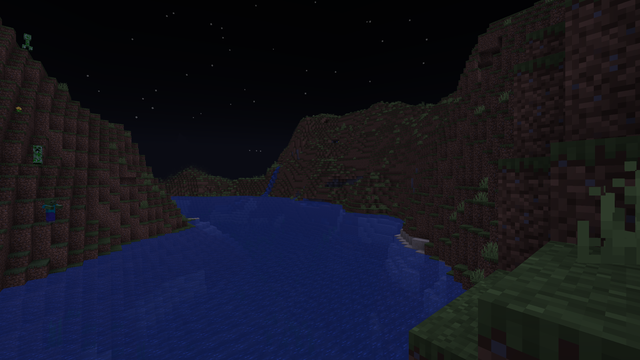creepers: (32, 144, 43, 164), (22, 32, 31, 51)
zombies: (44, 199, 55, 223)
